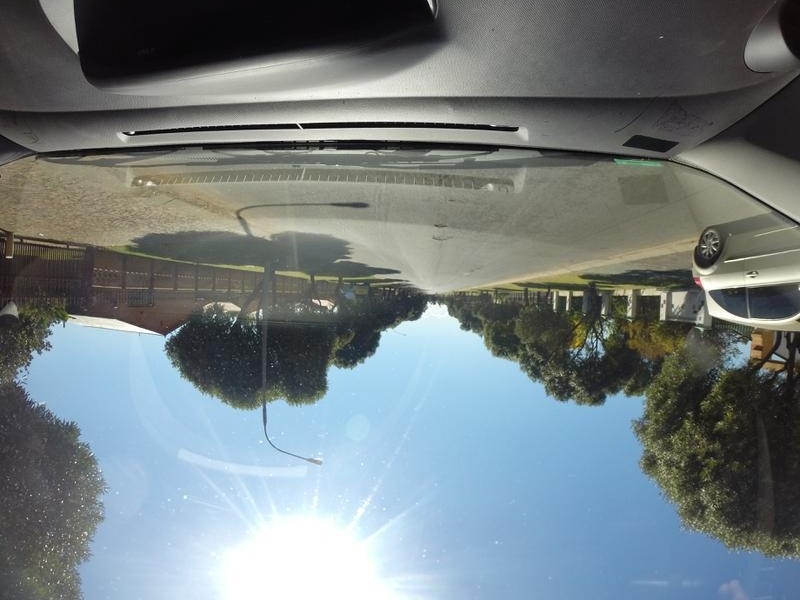pothole: (431, 236, 458, 244), (435, 218, 449, 232)
